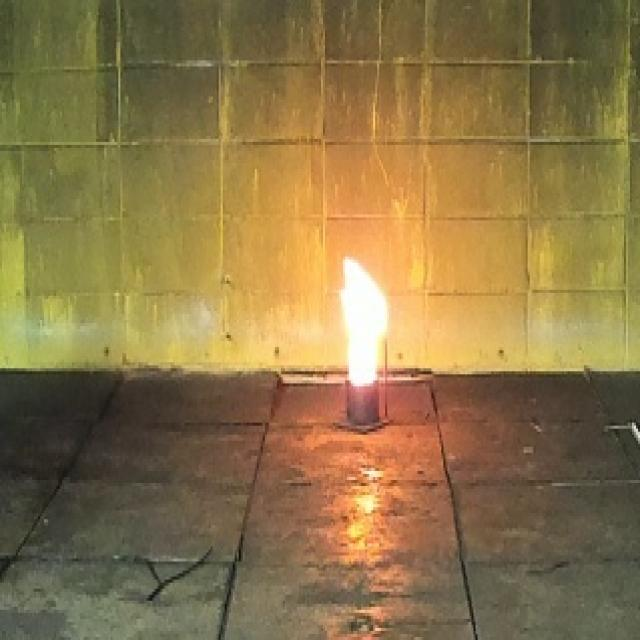Fire: (340, 256, 388, 387)
